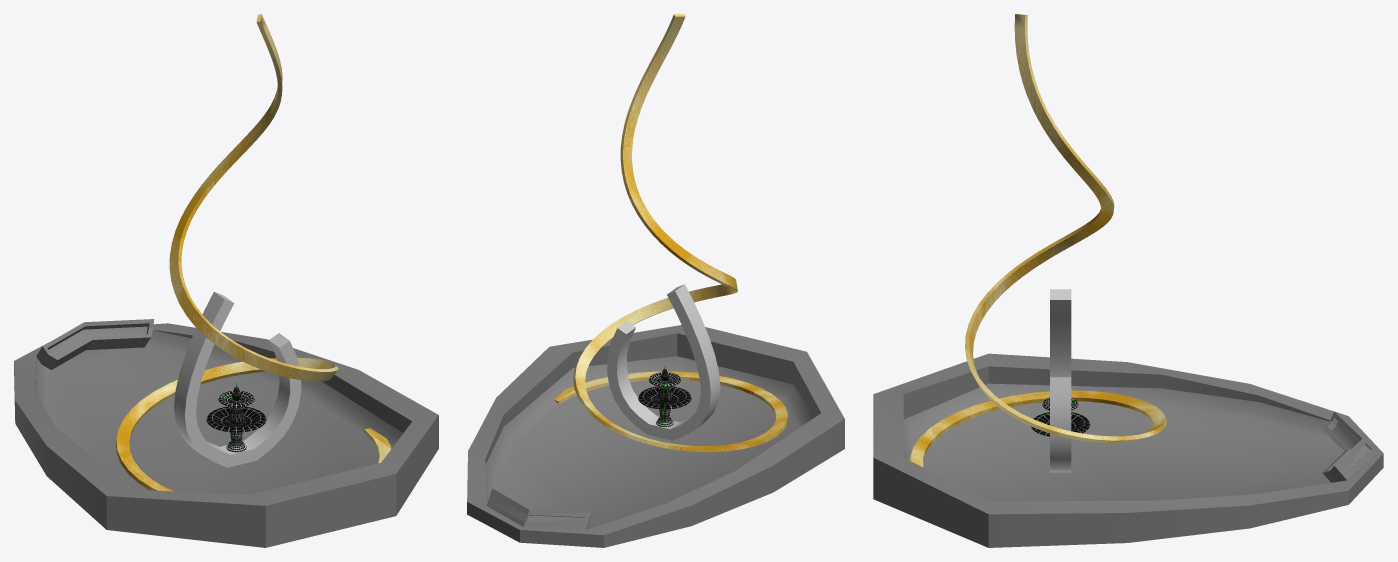
The picture shows the model from 3 angles, left to right: view 1: azimuth 30°, elevation 25°; view 2: azimuth 150°, elevation 25°; view 3: azimuth 270°, elevation 25°; orthographic projection. The views are drawn at different scales.
Parts seen in each view (by area): view 1: Egg001, Helix001, Arc001, Line002; view 2: Egg001, Helix001, Arc001, Line002; view 3: Egg001, Helix001, Arc001, Line002.
Part boxes in pixels (<box>): Egg001: <box>14,319,438,547</box>; Helix001: <box>115,14,391,491</box>; Arc001: <box>174,291,301,467</box>; Line002: <box>206,383,266,452</box>; Egg001: <box>467,325,844,547</box>; Helix001: <box>554,14,788,452</box>; Arc001: <box>607,284,720,440</box>; Line002: <box>638,366,691,426</box>; Egg001: <box>873,353,1383,547</box>; Helix001: <box>910,14,1166,467</box>; Arc001: <box>1050,289,1071,472</box>; Line002: <box>1031,397,1090,436</box>.
Size of the model in its own units: 350 by 463 by 470.
